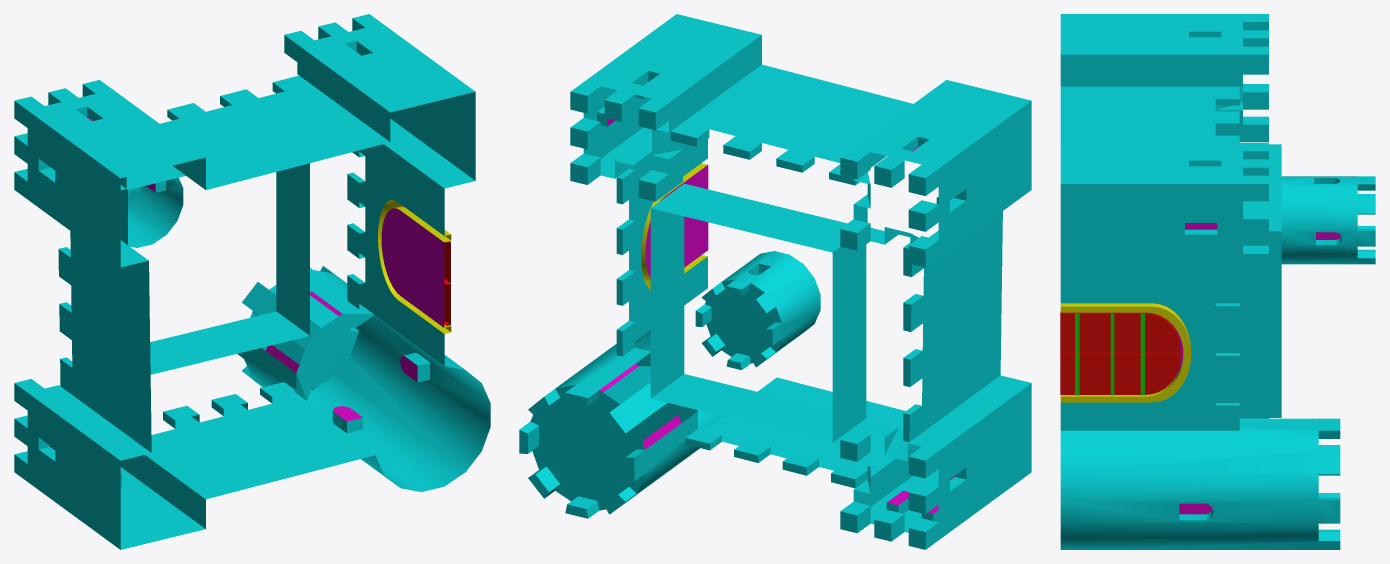
File: Medieval_Castle.fbx
3 renders of one model, left to right at view 1: azimuth 30°, elevation 25°; view 2: azimuth 150°, elevation 25°; view 3: azimuth 270°, elevation 25°, orthographic.
Parts seen in each view (by area): view 1: Cube; view 2: Cube; view 3: Cube.
Part boxes in pixels (x1,y1,x2,y2): Cube: (14,14,490,549); Cube: (519,14,1031,549); Cube: (1060,14,1375,549).
Bounding box in the file's own units: 1371 × 1371 × 1031.
